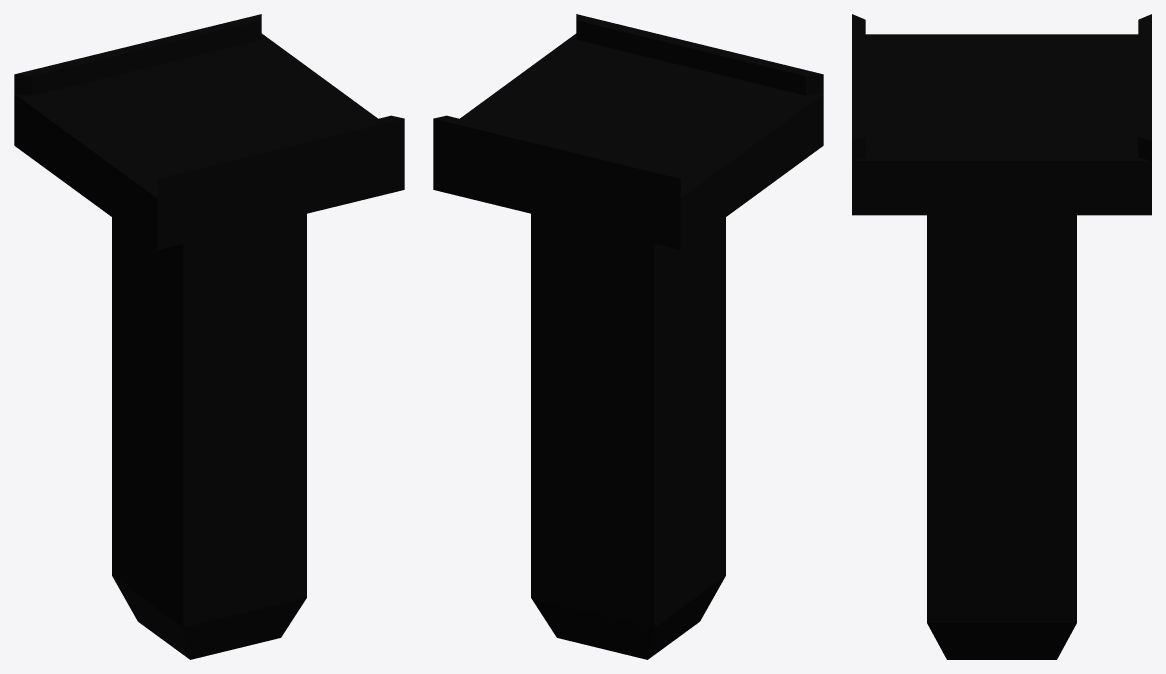
Rendered from Vertical_Grip.gltf.
3 views of the same model, side by side, from view 1: azimuth 30°, elevation 25°; view 2: azimuth 150°, elevation 25°; view 3: azimuth 270°, elevation 25° (orthographic). The views are drawn at different scales.
Visible parts, largest first — view 1: mesh; view 2: mesh; view 3: mesh.
Boxes of the visible parts, x1=… form: mesh: x1=14, y1=14, x2=404, y2=659; mesh: x1=433, y1=14, x2=823, y2=659; mesh: x1=852, y1=14, x2=1151, y2=659.
Bounding box in the file's own units: 0.375 × 0.7719 × 0.375.
Materials: 1 (1 with a texture image).
